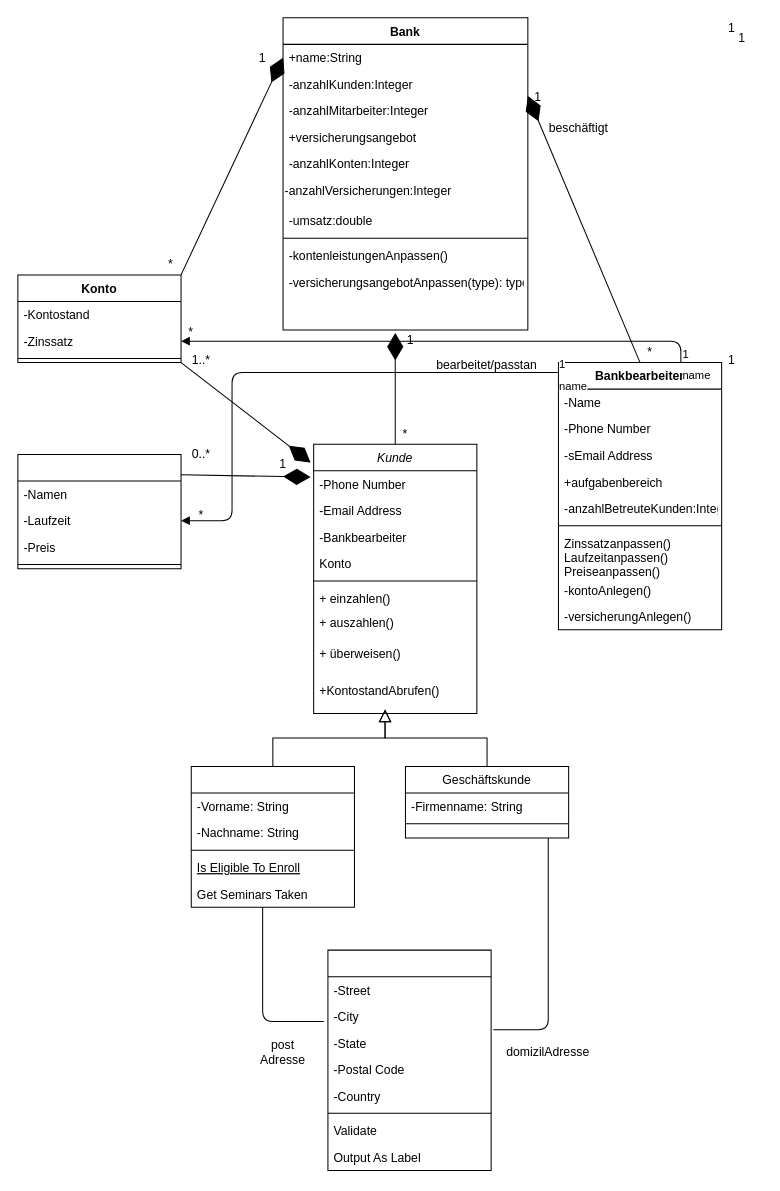
This 780x1191 diagram has some shape labels left out. The shapes that lost their labels are listed below. From the top down, each one's box as (x1, y1, x2, y2) in pixels, then its label:
(17, 453, 181, 569): Versicherung
(190, 766, 354, 907): Privatkunde
(327, 949, 491, 1170): Address
